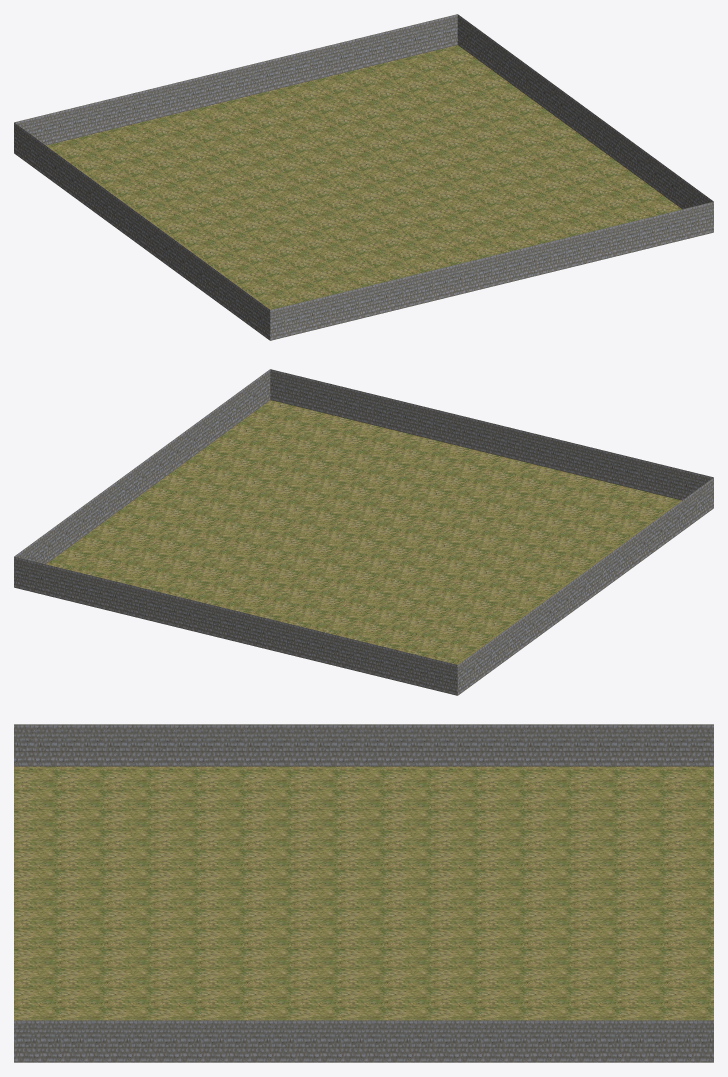
File: map.obj
3 renders of one model, top to bottom at view 1: azimuth 30°, elevation 25°; view 2: azimuth 150°, elevation 25°; view 3: azimuth 270°, elevation 25°, orthographic. The views are drawn at different scales.
Parts seen in each view (by area): view 1: test; view 2: test; view 3: test.
Part boxes in pixels (x1,y1,x2,y2): test: (14, 14, 713, 340); test: (14, 369, 713, 695); test: (14, 724, 713, 1062).
Size of the model in its own units: 15 by 1 by 15.
2 materials, 2 textured.
